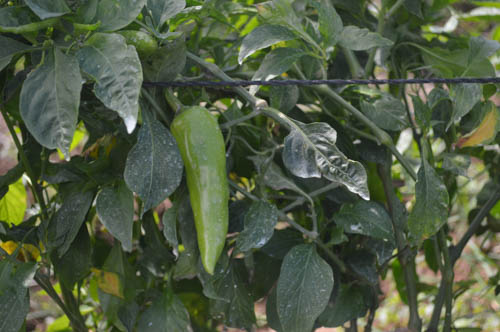ChiliPepper: (174, 108, 231, 276)
